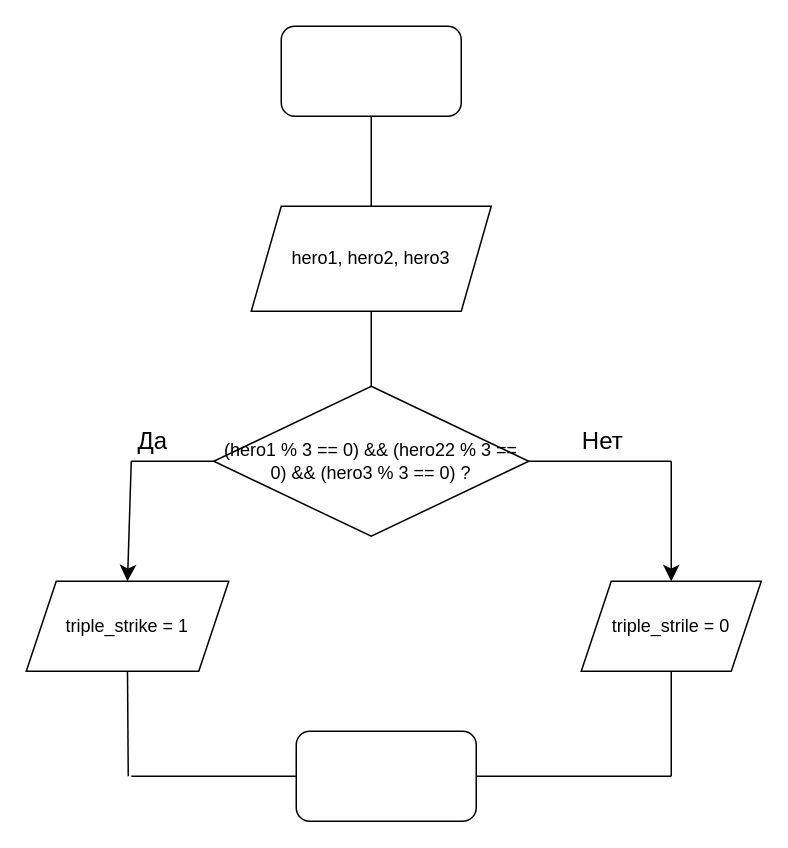
This 788x848 diagram has some shape labels left out. The shapes that lost their labels are listed below. From the top down, each one's box as (x1, y1, x2, y2) in pixels, then its label:
(280, 25, 461, 116): Начало
(295, 730, 476, 821): Конец
